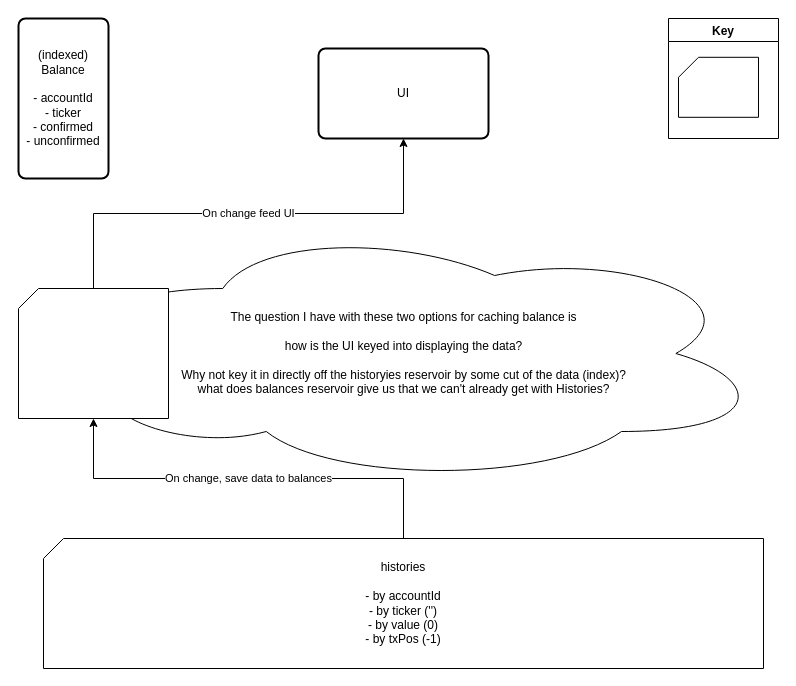
Image size: 796x686. Some labels were removed from this diagram. Each missing label, with the centre of its shape:
"balances - by accountId - by ticker - by both" goes at pixel 93 353.
"Reservoir" goes at pixel 718 86.
